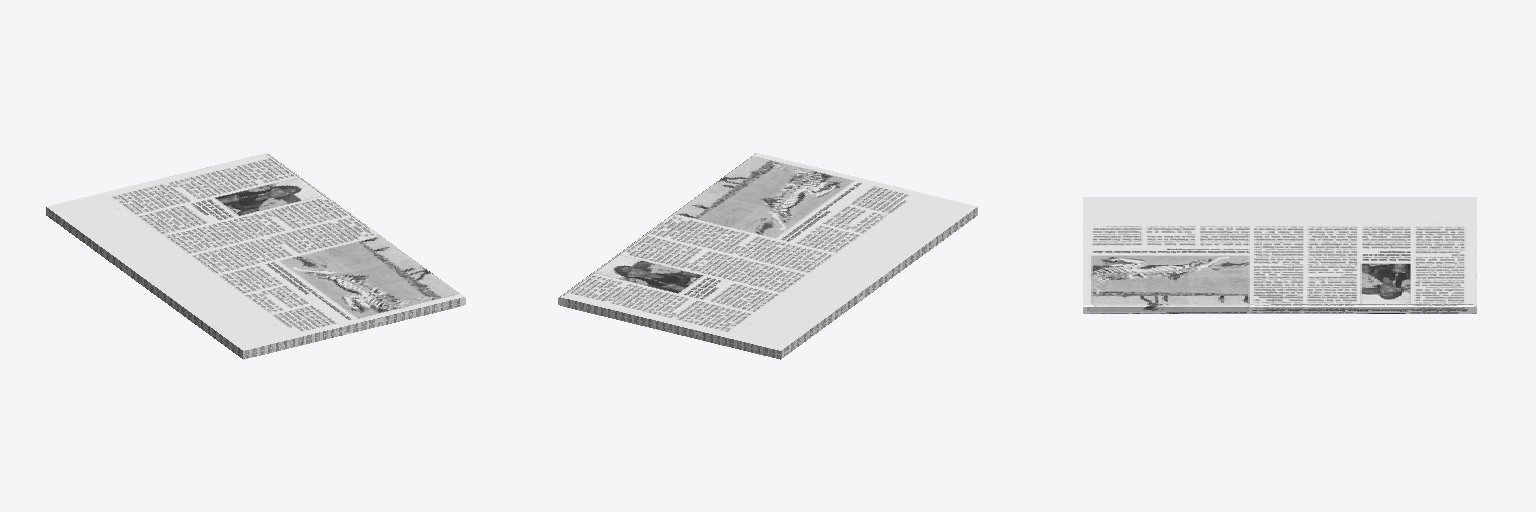
3 views of the same model, side by side, from view 1: azimuth 30°, elevation 25°; view 2: azimuth 150°, elevation 25°; view 3: azimuth 270°, elevation 25° (orthographic).
Parts seen in each view (by area): view 1: Cube.003; view 2: Cube.003; view 3: Cube.003.
Boxes of the visible parts, <box> form: Cube.003: <box>46,153,465,359</box>; Cube.003: <box>558,153,977,359</box>; Cube.003: <box>1083,197,1476,313</box>.
Bounding box in the file's own units: 0.0225 × 0.0008 × 0.0345.
1 materials, 1 textured.